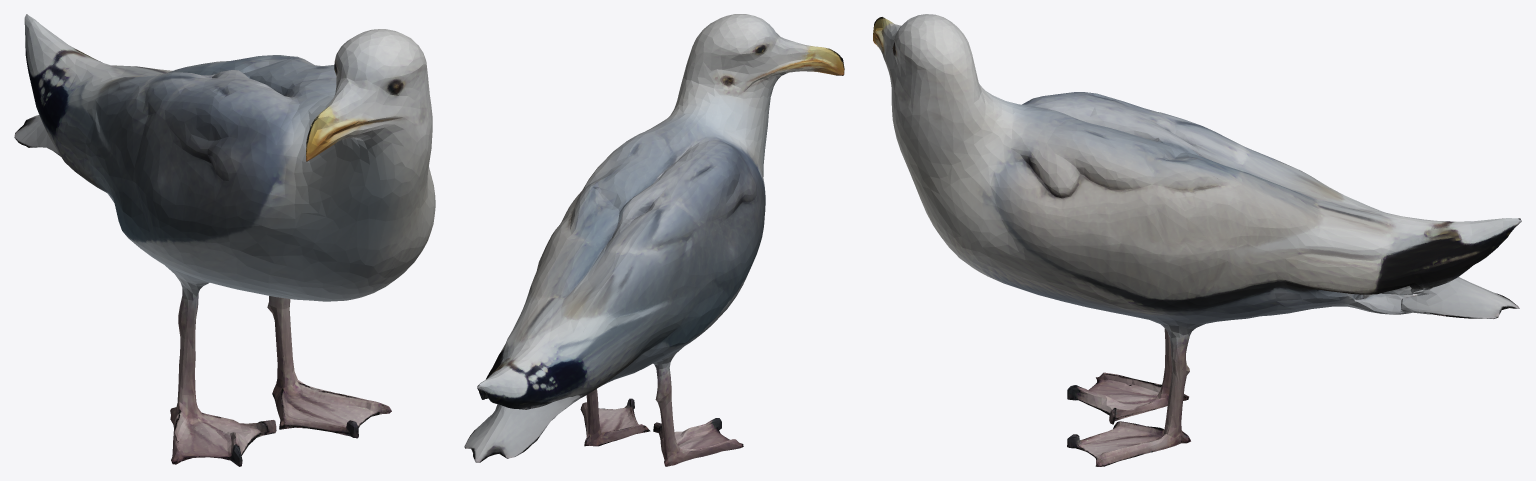
File: hello_world.glb
3 renders of one model, left to right at view 1: azimuth 30°, elevation 25°; view 2: azimuth 150°, elevation 25°; view 3: azimuth 270°, elevation 25°, orthographic. The views are drawn at different scales.
Visible parts, largest first — view 1: world; view 2: world; view 3: world.
Boxes of the visible parts, x1,y1,x2,y2 form: world: (14, 14, 435, 466); world: (464, 14, 844, 466); world: (873, 14, 1521, 466).
Size of the model in its own units: 0.3325 by 0.6863 by 0.999.
Materials: 1 (1 with a texture image).
